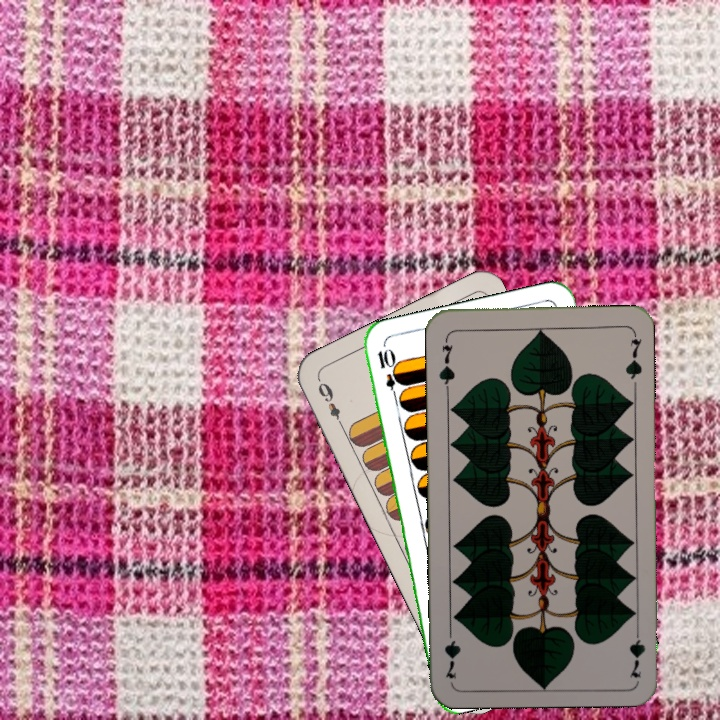E10: (373, 345, 402, 404)
E9: (314, 375, 347, 431)
G7: (435, 333, 458, 392), (625, 621, 648, 680)
